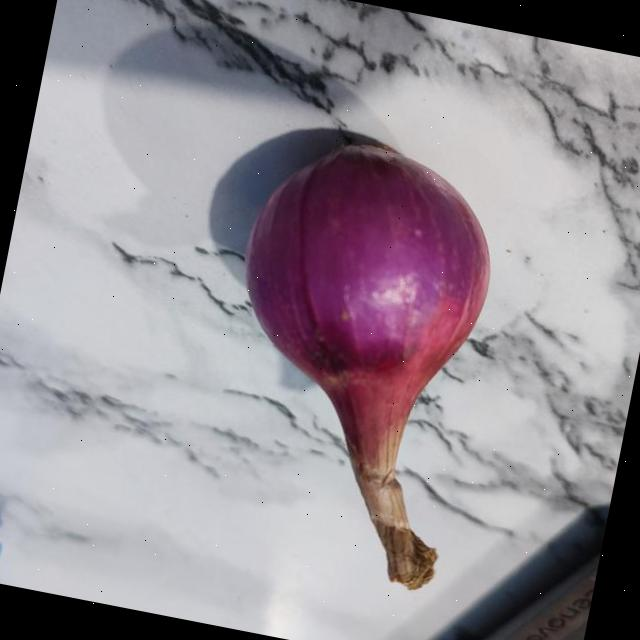Onion: (244, 143, 489, 589)
